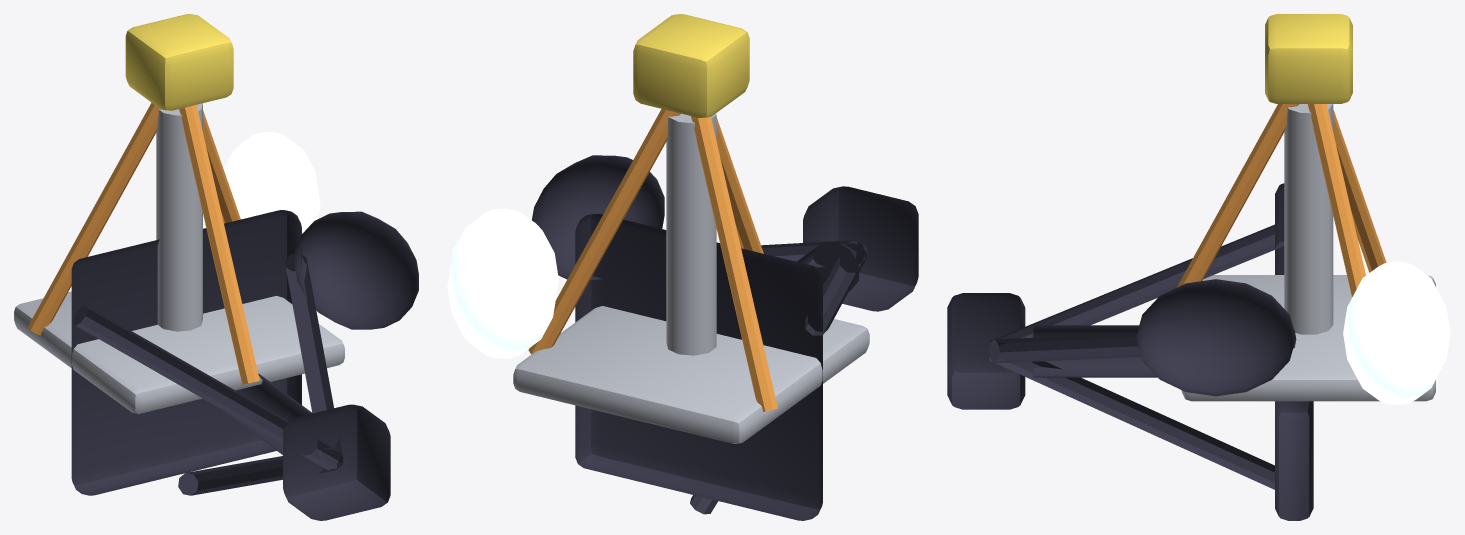
The model's file is Extractor_Hielo.fbx.
The picture shows the model from 3 angles, left to right: view 1: azimuth 30°, elevation 25°; view 2: azimuth 150°, elevation 25°; view 3: azimuth 270°, elevation 25°; orthographic projection. The views are drawn at different scales.
Visible parts, largest first — view 1: Ext_Base_Contorno, Ext_Base, Ext_Deposito_Contorno, Ext_Motor_Contorno, Ext_Taladro, Ext_Motor, Ext_Deposito, Ext_Pata1_Contorno, Ext_Pata2, Ext_Pata1, Ext_Pata0_Contorno, Ext_Pata2_Contorno (+2 smaller); view 2: Ext_Base_Contorno, Ext_Base, Ext_Deposito, Ext_Taladro, Ext_Motor, Ext_Motor_Contorno, Ext_Deposito_Contorno, Ext_Pata1, Ext_Pata0, Ext_Pata2, Ext_Pata1_Contorno, Ext_Taladro_Contorno (+1 smaller); view 3: Ext_Deposito_Contorno, Ext_Deposito, Ext_Taladro, Ext_Base, Ext_Motor, Ext_Motor_Contorno, Ext_Pata2_Contorno, Ext_Base_Contorno, Ext_Pata1_Contorno, Ext_Pata2, Ext_Pata0_Contorno, Ext_Pata0 (+2 smaller).
Boxes of the visible parts, box(x1,y1,x2,y2) form: Ext_Base_Contorno: box(71, 210, 301, 495); Ext_Base: box(14, 291, 344, 413); Ext_Deposito_Contorno: box(295, 211, 418, 329); Ext_Motor_Contorno: box(283, 404, 390, 520); Ext_Taladro: box(156, 103, 202, 331); Ext_Motor: box(125, 14, 233, 110); Ext_Deposito: box(223, 132, 320, 233); Ext_Pata1_Contorno: box(73, 304, 340, 470); Ext_Pata2: box(179, 105, 259, 384); Ext_Pata1: box(28, 102, 160, 335); Ext_Pata0_Contorno: box(285, 254, 343, 468); Ext_Pata2_Contorno: box(178, 447, 342, 495); Ext_Base_Contorno: box(575, 213, 822, 520); Ext_Base: box(513, 306, 869, 443); Ext_Deposito: box(447, 208, 558, 358); Ext_Taladro: box(666, 113, 716, 355); Ext_Motor: box(633, 14, 749, 117); Ext_Motor_Contorno: box(803, 186, 918, 311); Ext_Deposito_Contorno: box(532, 155, 664, 279); Ext_Pata1: box(691, 116, 777, 411); Ext_Pata0: box(528, 109, 680, 354); Ext_Pata2: box(716, 117, 763, 253); Ext_Pata1_Contorno: box(805, 240, 867, 335); Ext_Taladro_Contorno: box(796, 241, 858, 291); Ext_Deposito_Contorno: box(1136, 279, 1295, 396); Ext_Deposito: box(1343, 261, 1450, 404); Ext_Taladro: box(1284, 104, 1333, 334); Ext_Base: box(1181, 275, 1435, 401); Ext_Motor: box(1265, 14, 1352, 103); Ext_Motor_Contorno: box(947, 293, 1025, 409); Ext_Pata2_Contorno: box(989, 342, 1274, 489); Ext_Base_Contorno: box(1275, 183, 1313, 520); Ext_Pata1_Contorno: box(989, 221, 1284, 361); Ext_Pata2: box(1177, 104, 1298, 287); Ext_Pata0_Contorno: box(989, 330, 1296, 363); Ext_Pata0: box(1307, 104, 1365, 297).
Bounding box in the file's own units: 3.6 × 5.27 × 5.15.
